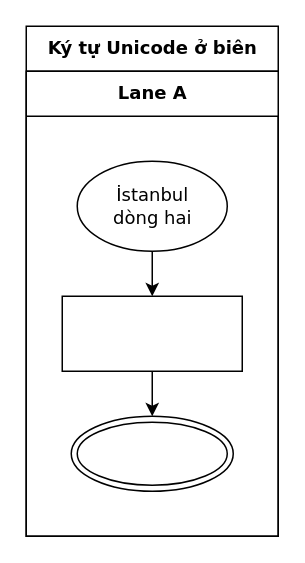
This 305x563 diagram has some shape labels left out. Each missing label, with the centre of its shape:
"kết thúc" goes at pixel 151 453.
"trước sau" goes at pixel 151 333.
